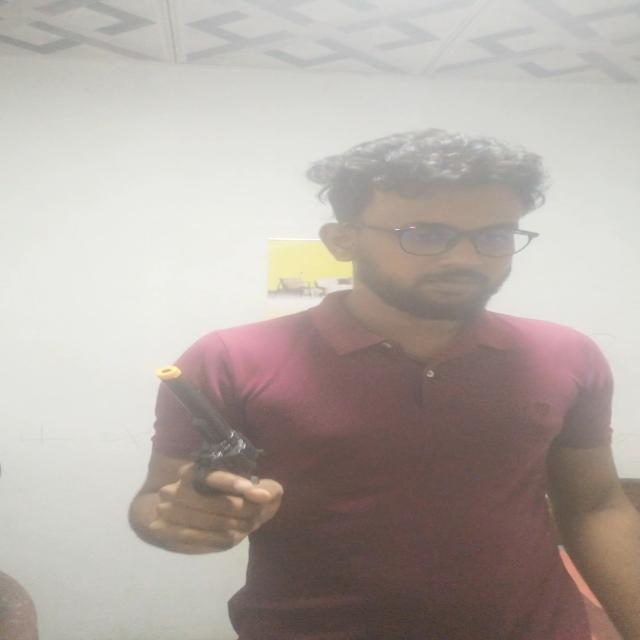Gun_Holder: (118, 353, 292, 518)
Person: (133, 135, 640, 640)
